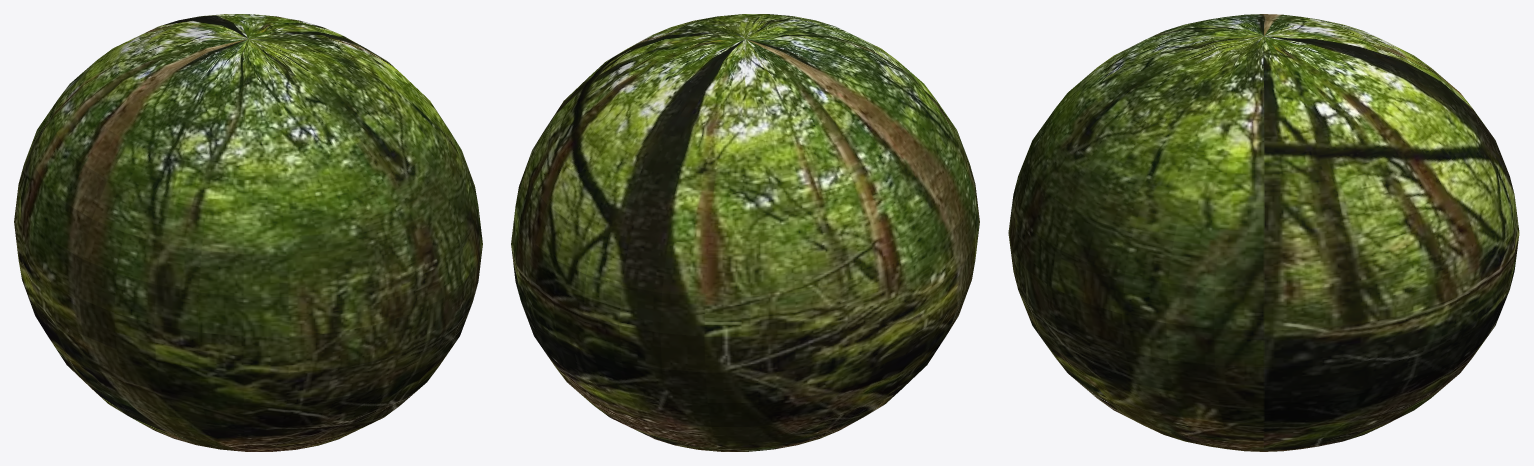
Rendered from treedome.obj.
3 renders of one model, left to right at view 1: azimuth 30°, elevation 25°; view 2: azimuth 150°, elevation 25°; view 3: azimuth 270°, elevation 25°, orthographic.
Parts seen in each view (by area): view 1: 球; view 2: 球; view 3: 球.
Boxes of the visible parts, box(x1,y1,x2,y2) form: 球: box(14, 14, 482, 451); 球: box(511, 14, 979, 451); 球: box(1008, 14, 1519, 451).
Size of the model in its own units: 0.2719 by 0.255 by 0.3005.
1 material, 1 textured.
